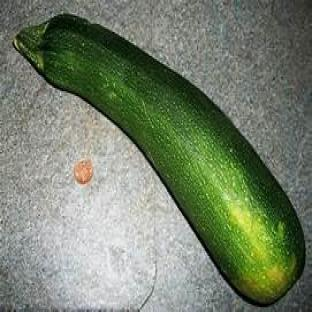Zucchini: (14, 15, 305, 303)
